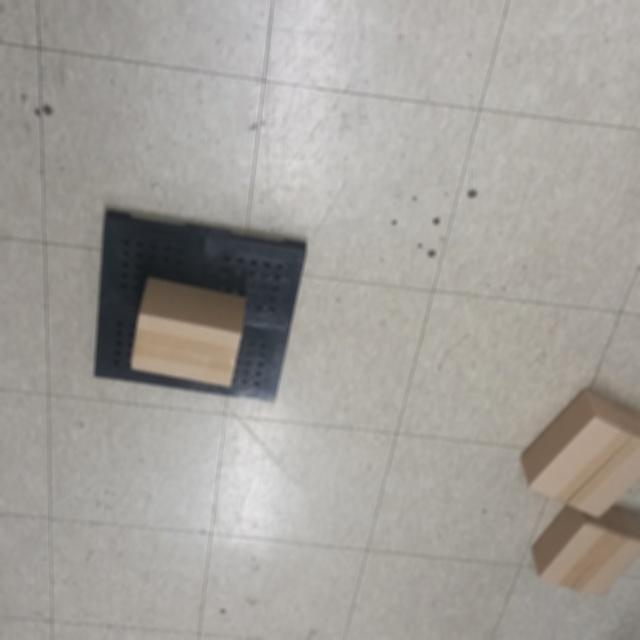box: (516, 387, 640, 524), (128, 273, 252, 392), (527, 506, 640, 604)
pallet: (88, 204, 313, 412)
